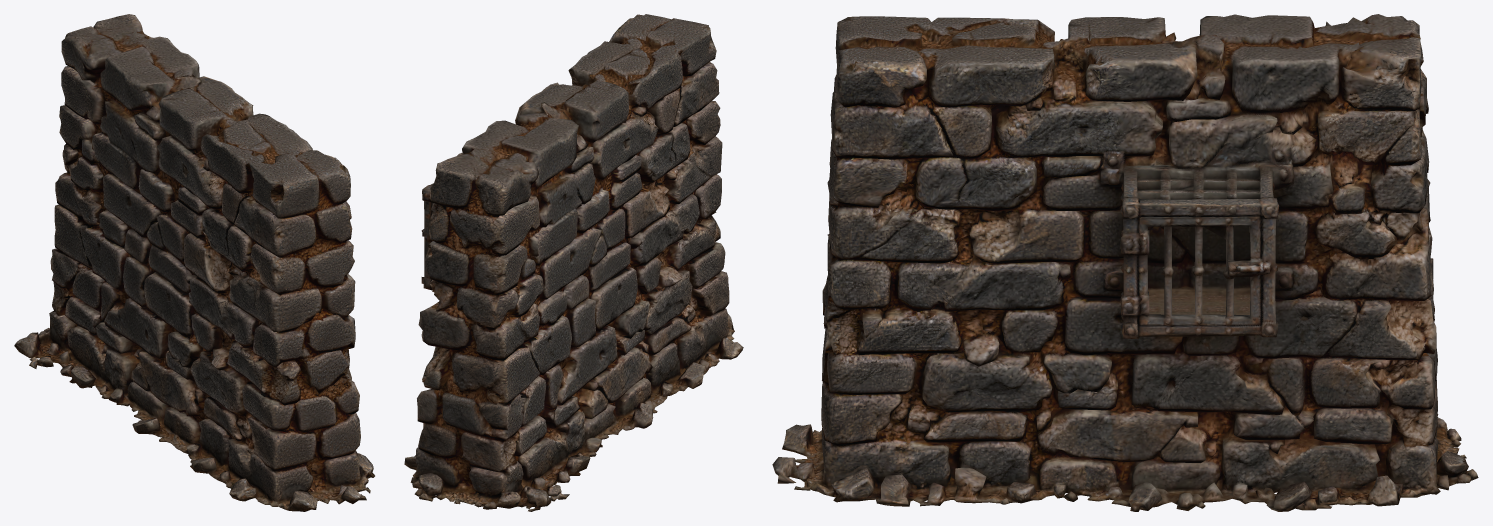
The model's file is wall_cage.glb.
3 views of the same model, side by side, from view 1: azimuth 30°, elevation 25°; view 2: azimuth 150°, elevation 25°; view 3: azimuth 270°, elevation 25° (orthographic). The views are drawn at different scales.
Parts seen in each view (by area): view 1: tripo_node_9a587d58-4984-4d15-ae24-76bd14d3da74; view 2: tripo_node_9a587d58-4984-4d15-ae24-76bd14d3da74; view 3: tripo_node_9a587d58-4984-4d15-ae24-76bd14d3da74.
Boxes of the visible parts, bbox=[...] form: tripo_node_9a587d58-4984-4d15-ae24-76bd14d3da74: bbox=[14, 14, 374, 511]; tripo_node_9a587d58-4984-4d15-ae24-76bd14d3da74: bbox=[404, 14, 743, 511]; tripo_node_9a587d58-4984-4d15-ae24-76bd14d3da74: bbox=[772, 14, 1478, 511].
Bounding box in the file's own units: 0.4119 × 0.6751 × 1.
1 material, 1 textured.
